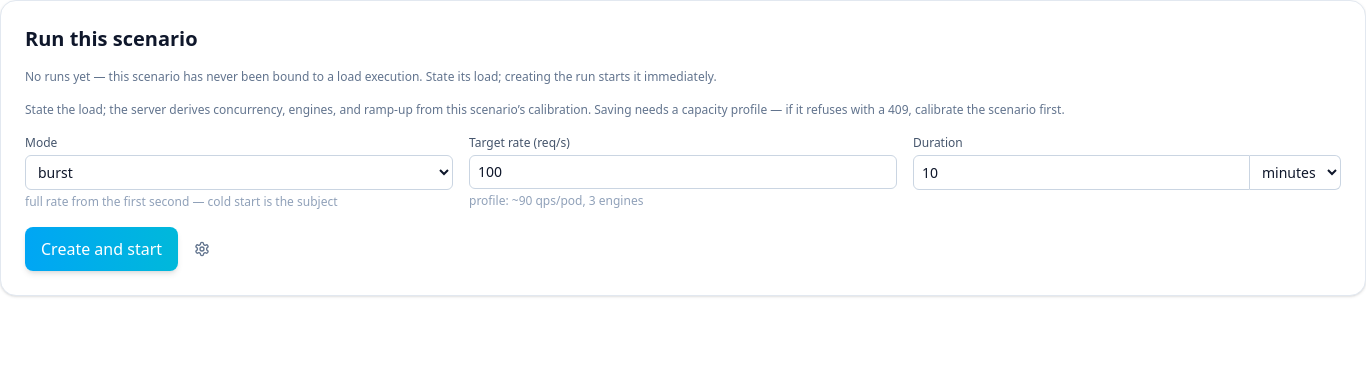
it: ScenarioRunPanel — start flow and empty-state create › never-run create refused with 409: remediation copy and the Calibrate link
Click the button "Create and start". click: (102, 249)
box: [25, 227, 178, 271]
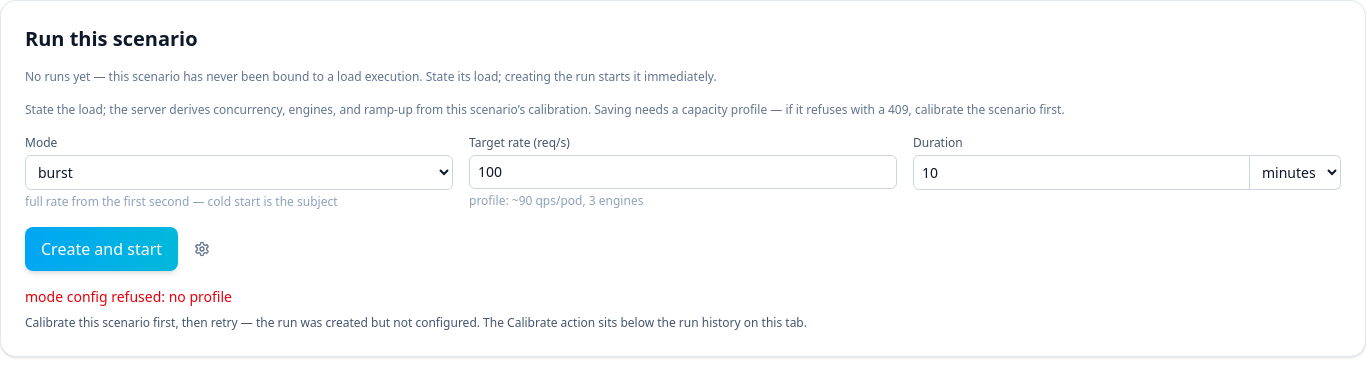
Now the message "mode config refused: no profile" is shown, box [25, 287, 232, 306]
